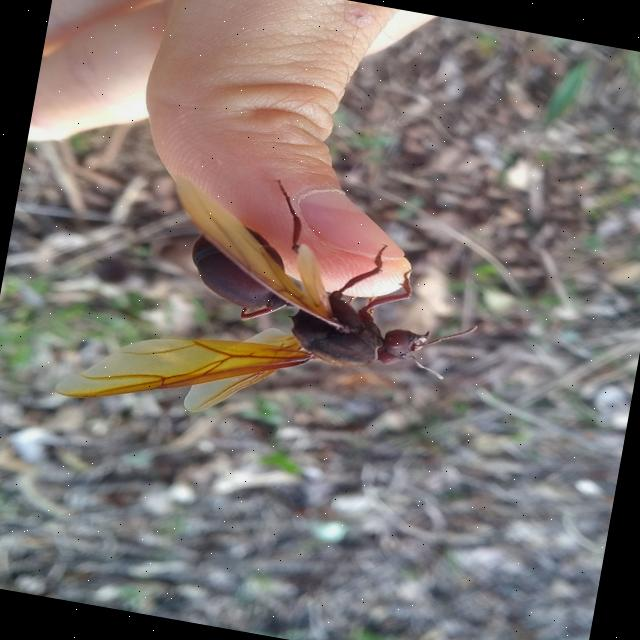Alive-Male-Alate: (50, 148, 492, 471)
